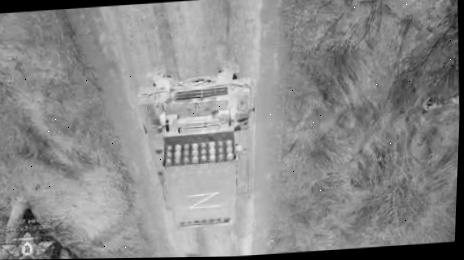rszo: (129, 61, 260, 233)
